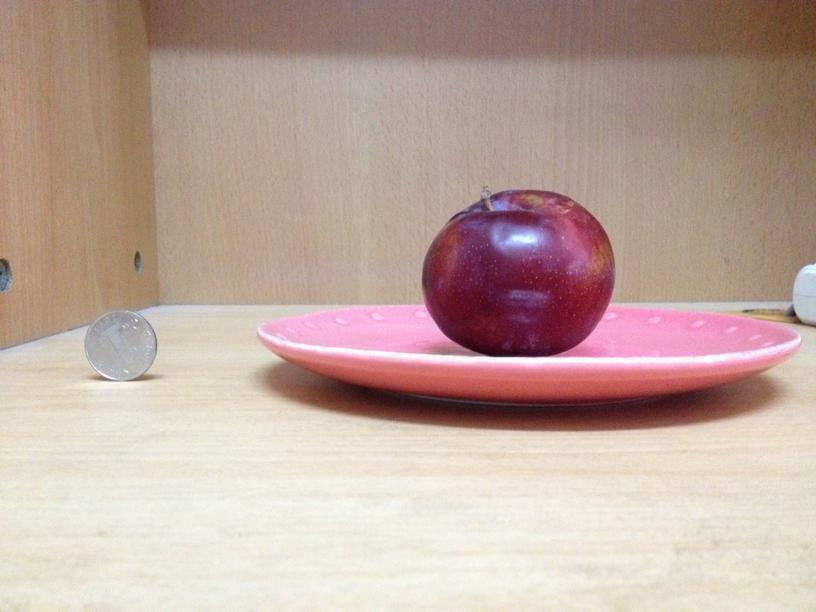coin: (81, 310, 159, 382)
plum: (420, 186, 619, 354)
